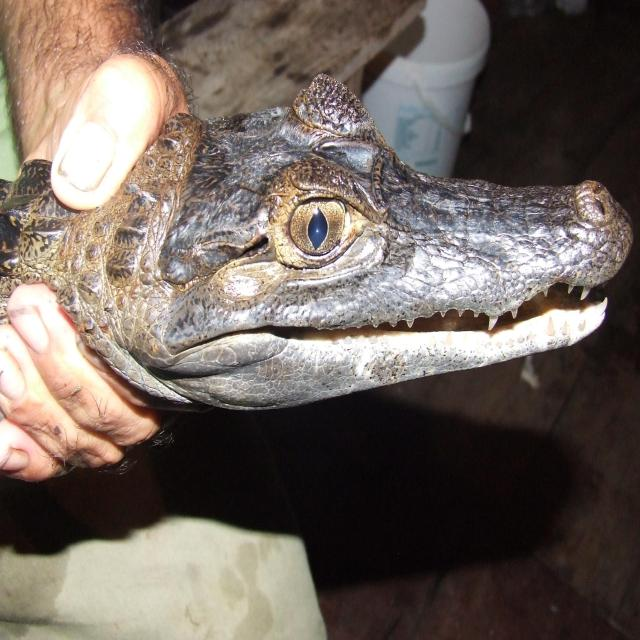crocodile: (0, 61, 640, 531)
